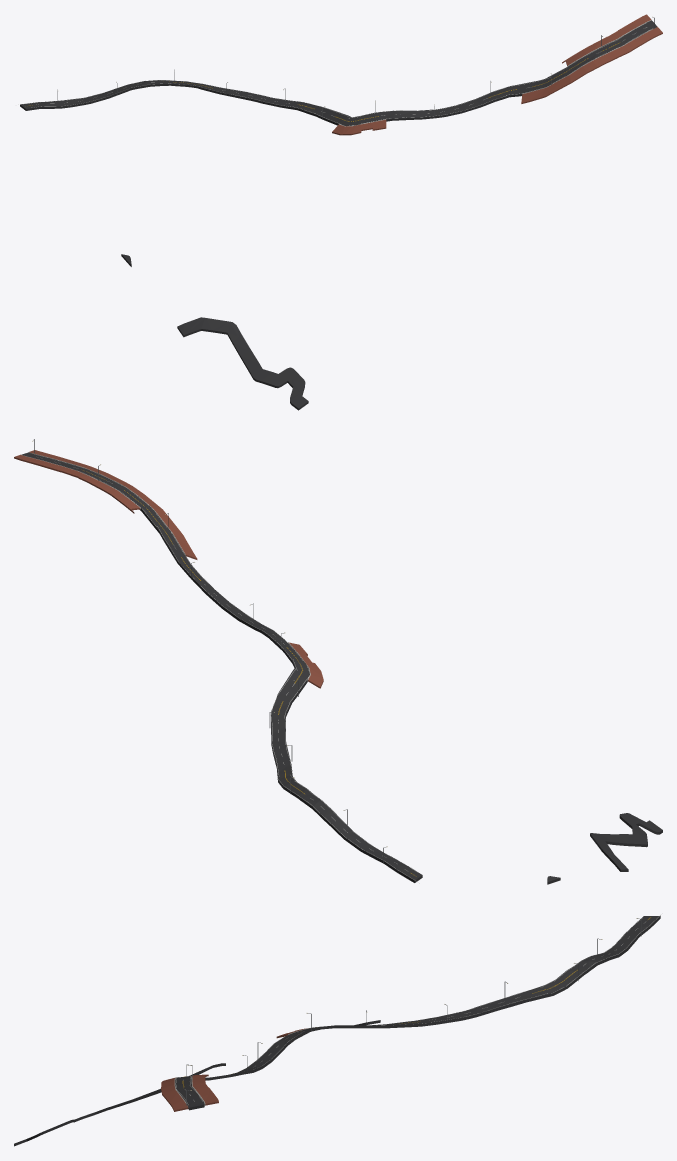
3 renders of one model, top to bottom at view 1: azimuth 30°, elevation 25°; view 2: azimuth 150°, elevation 25°; view 3: azimuth 270°, elevation 25°, orthographic. The views are drawn at different scales.
Bounding box in the file's own units: 297 × 147 × 256.
